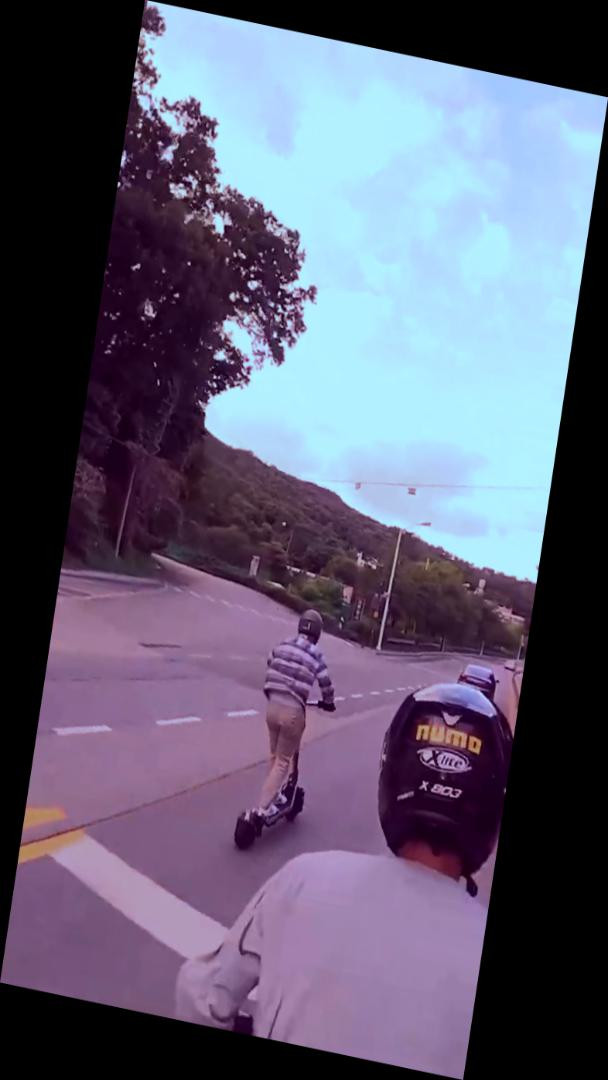helmet: (220, 592, 358, 875)
